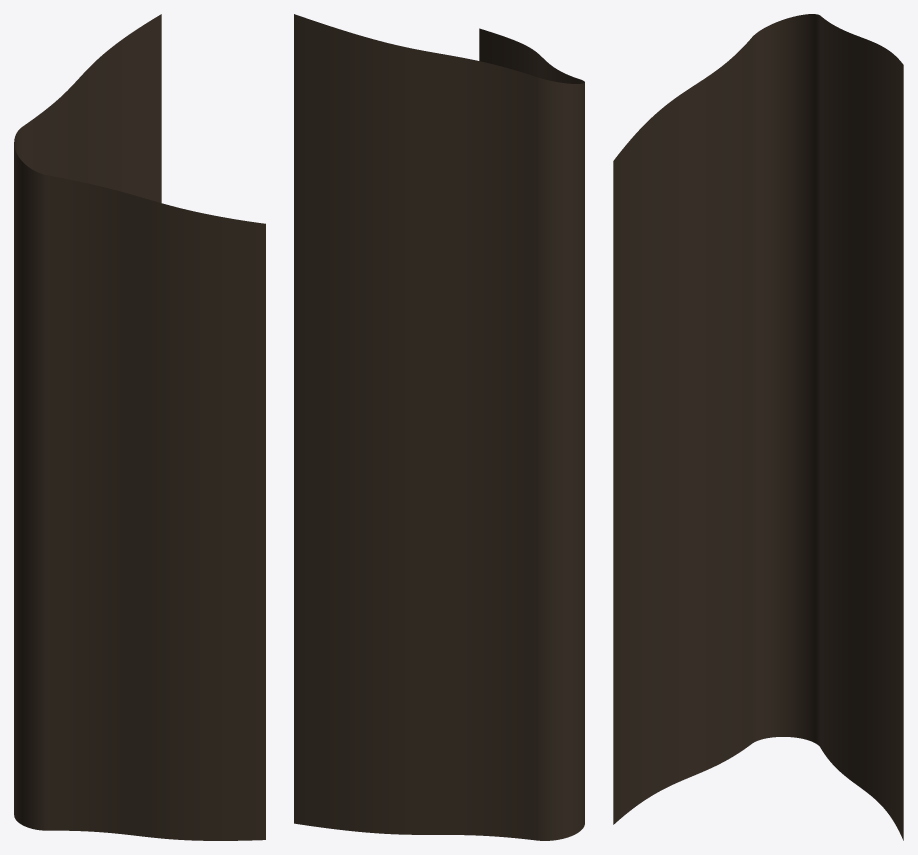
File: inner_fill_2_earth.dae
The picture shows the model from 3 angles, left to right: view 1: azimuth 30°, elevation 25°; view 2: azimuth 150°, elevation 25°; view 3: azimuth 270°, elevation 25°; orthographic projection. The views are drawn at different scales.
Parts seen in each view (by area): view 1: inner_fill_2_earth_0_L1; view 2: inner_fill_2_earth_0_L1; view 3: inner_fill_2_earth_0_L1.
Boxes of the visible parts, x1,y1,x2,y2 form: inner_fill_2_earth_0_L1: (14, 14, 265, 840); inner_fill_2_earth_0_L1: (294, 14, 584, 840); inner_fill_2_earth_0_L1: (613, 14, 903, 840).
Bounding box in the file's own units: 2.96 × 3.49 × 10.29.
